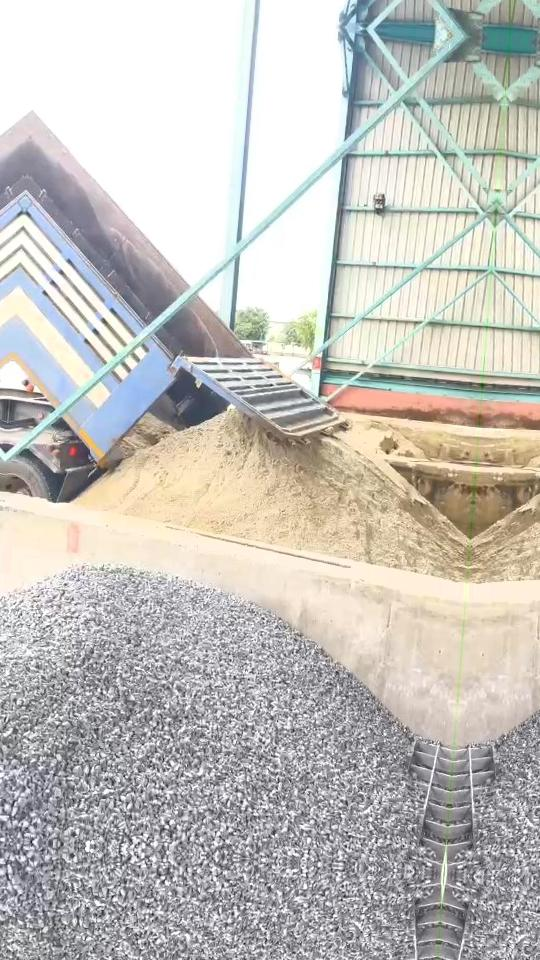gravel: (0, 566, 430, 872)
sand: (77, 411, 467, 579), (106, 412, 172, 468), (352, 422, 423, 456)
